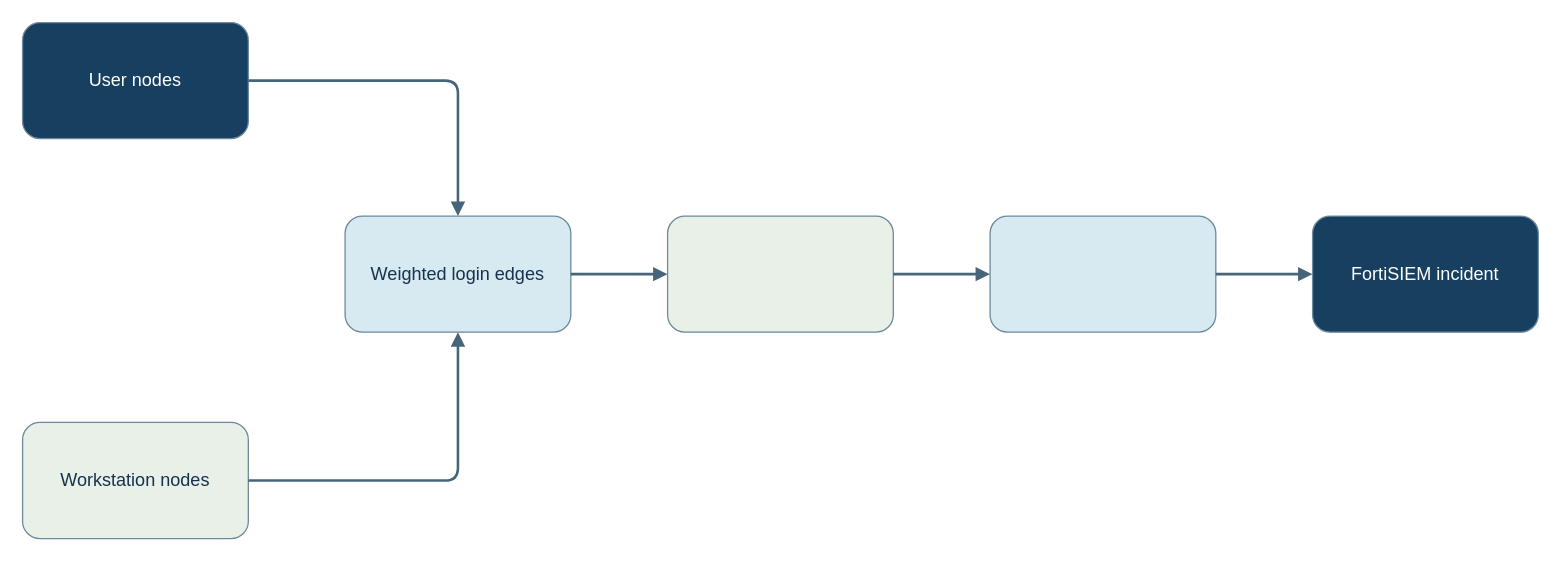
Image size: 1561x561. Some labels were removed from this diagram. Here are the shapes that lost their labels. From the top down, the box of each, then its label:
(666, 215, 893, 332): Peer communities
(989, 215, 1216, 332): Anomalous cross-community edge
